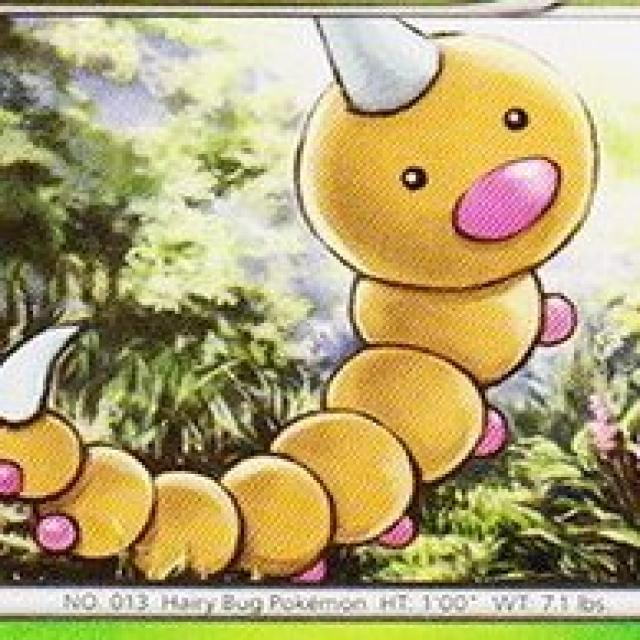Weedle: (12, 27, 598, 567)
